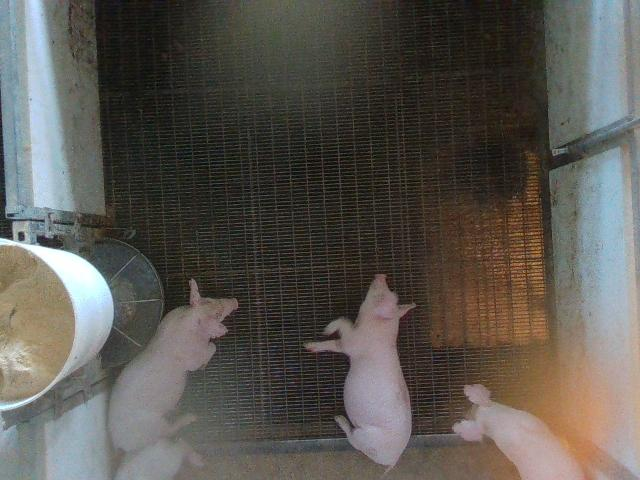pig-1: (305, 274, 415, 468)
